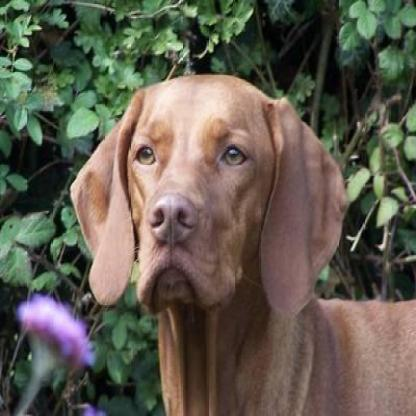vizsla: (69, 70, 414, 414)
